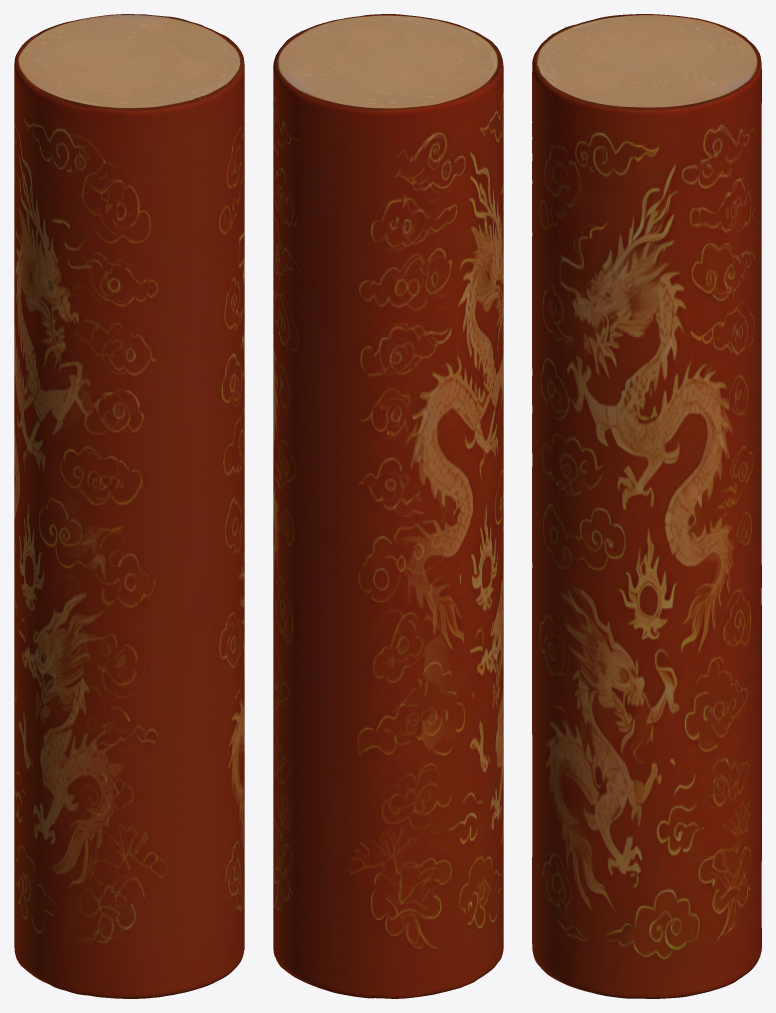
File: Pile.fbx
3 renders of one model, left to right at view 1: azimuth 30°, elevation 25°; view 2: azimuth 150°, elevation 25°; view 3: azimuth 270°, elevation 25°, orthographic.
Visible parts, largest first — view 1: tripo_node_0b840a52; view 2: tripo_node_0b840a52; view 3: tripo_node_0b840a52.
Part boxes in pixels (box(x1,y1,x2,y2)): tripo_node_0b840a52: box(14, 14, 244, 998); tripo_node_0b840a52: box(273, 14, 503, 998); tripo_node_0b840a52: box(532, 14, 761, 998).
Bounding box in the file's own units: 51.47 × 220 × 51.45.
Materials: 1 (1 with a texture image).
